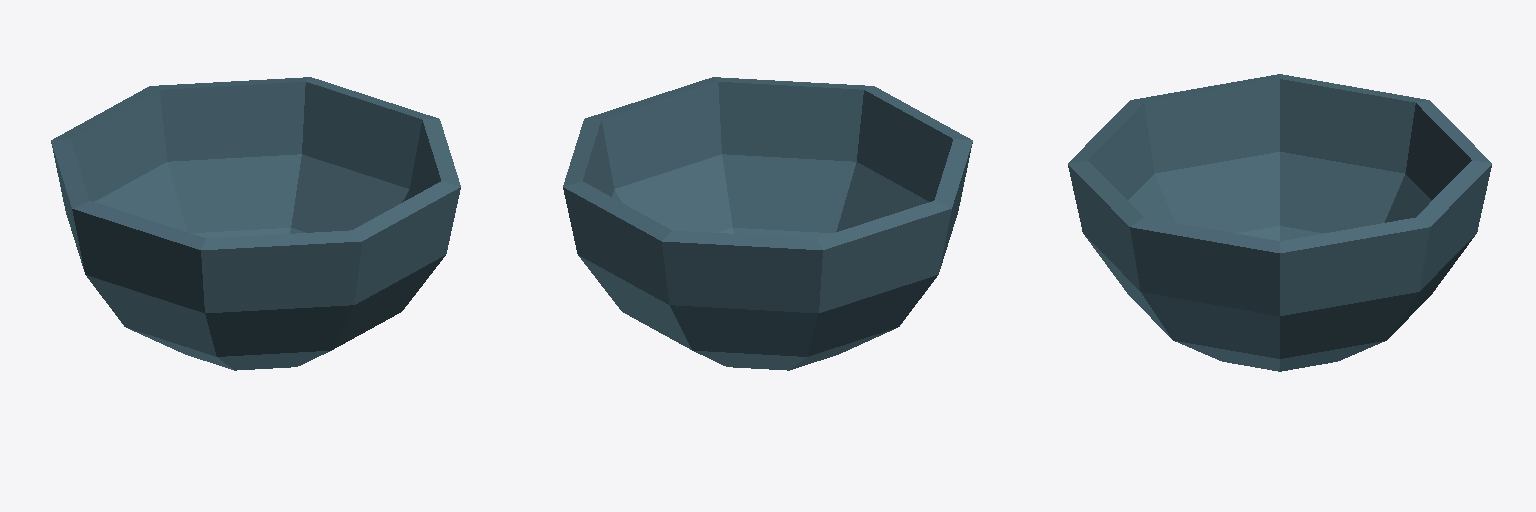
File: bowl.obj
3 views of the same model, side by side, from view 1: azimuth 30°, elevation 25°; view 2: azimuth 150°, elevation 25°; view 3: azimuth 270°, elevation 25° (orthographic).
Bounding box in the file's own units: 2.21 × 1.1 × 2.21.